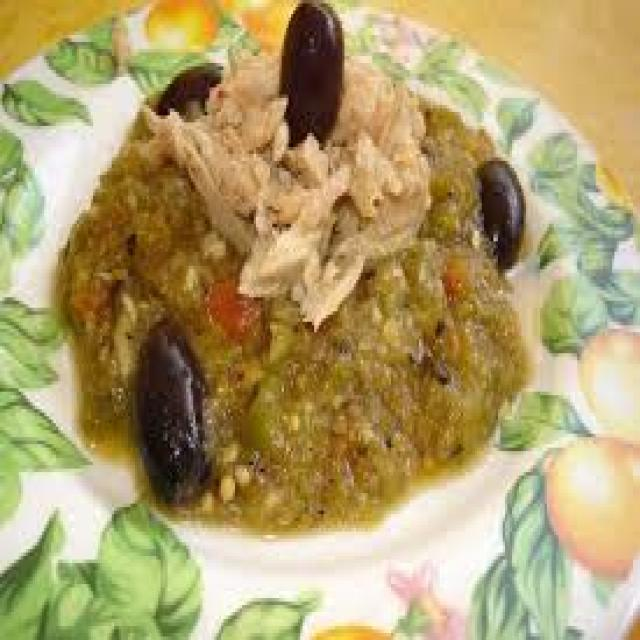Salade mechweya: (51, 10, 614, 575)
